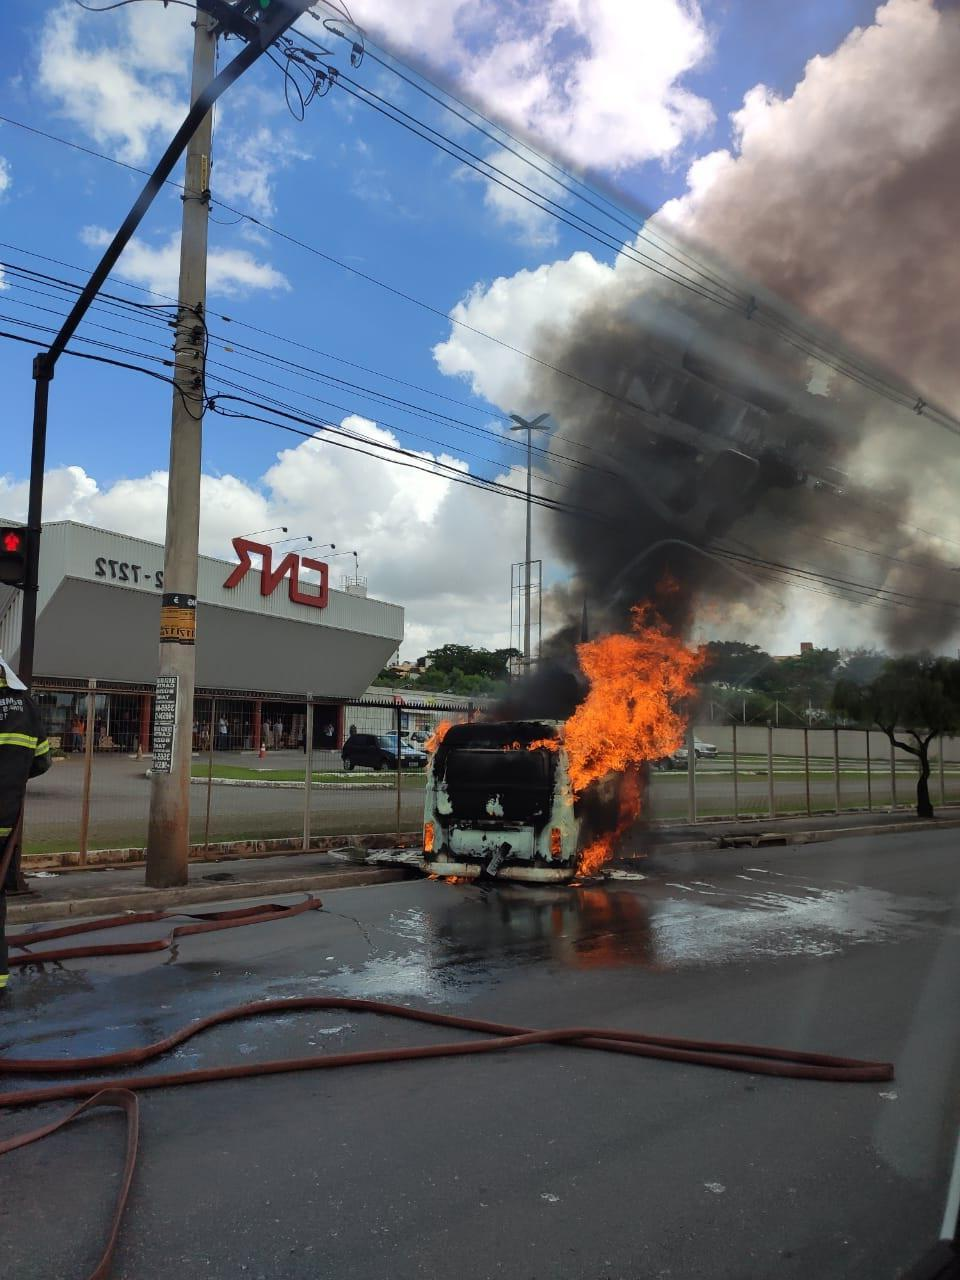Fire: (527, 607, 714, 807), (579, 835, 617, 876), (426, 721, 452, 755), (423, 827, 436, 851)
